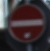No entry: (6, 6, 45, 46)
